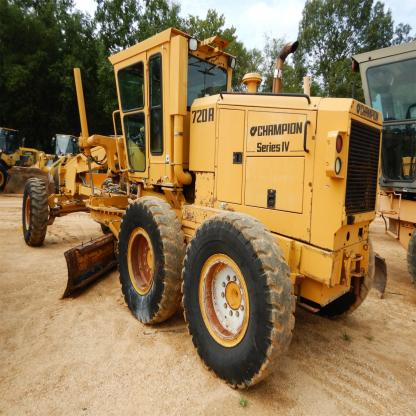bull_dozer/loader/grader: (16, 20, 378, 385)
